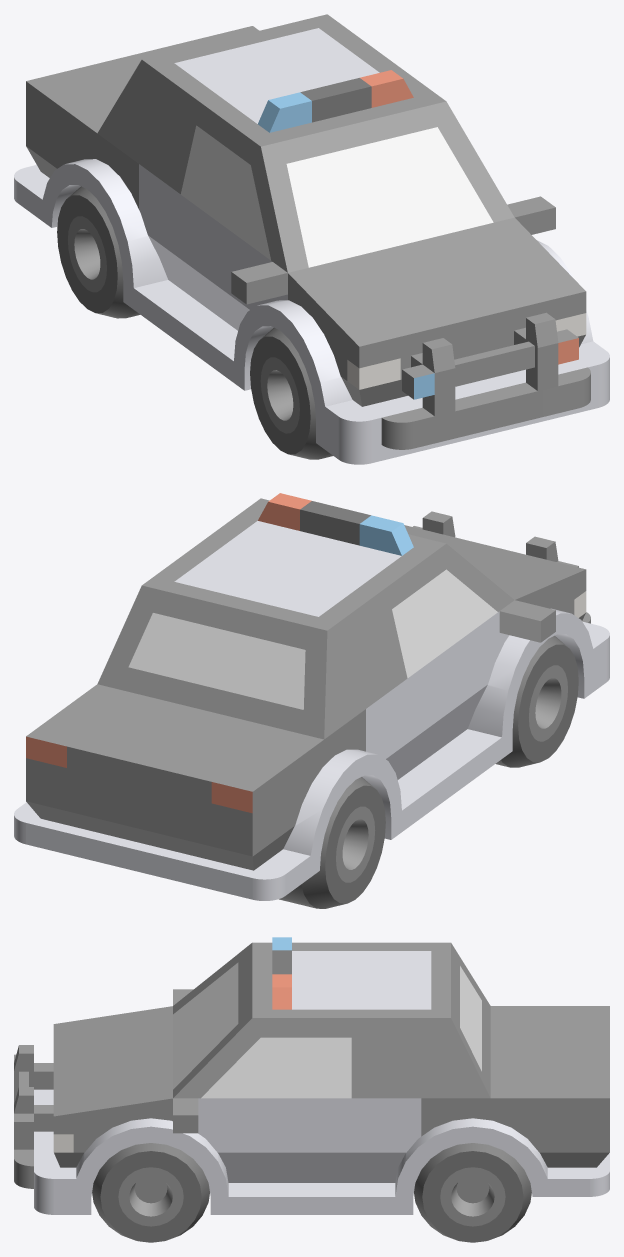
File: policebreak.fbx
3 renders of one model, top to bottom at view 1: azimuth 30°, elevation 25°; view 2: azimuth 150°, elevation 25°; view 3: azimuth 270°, elevation 25°, orthographic. The views are drawn at different scales.
Visible parts, largest first — view 1: body, body.004, grill, wheel_backRight, wheel_frontRight, body.002, body.003, body.001; view 2: body, body.004, wheel_backRight, wheel_frontRight, body.002, body.003, grill, body.001; view 3: body, body.004, wheel_backLeft, wheel_frontLeft, grill, body.001, body.002.
Part boxes in pixels (x1,y1,x2,y2): body: [26, 14, 590, 406]; body.004: [14, 159, 609, 464]; grill: [381, 312, 590, 449]; wheel_backRight: [57, 186, 140, 318]; wheel_frontRight: [250, 327, 332, 459]; body.002: [300, 78, 371, 122]; body.003: [258, 92, 311, 132]; body.001: [360, 70, 413, 107]; body: [26, 498, 586, 870]; body.004: [14, 608, 609, 900]; wheel_backRight: [279, 777, 385, 908]; wheel_frontRight: [495, 635, 578, 767]; body.002: [300, 501, 370, 545]; body.003: [359, 515, 413, 555]; grill: [413, 511, 590, 623]; body.001: [258, 493, 311, 530]; body: [53, 942, 609, 1182]; body.004: [34, 1089, 609, 1214]; wheel_backLeft: [414, 1143, 531, 1242]; wheel_frontLeft: [92, 1143, 209, 1242]; grill: [14, 1045, 53, 1188]; body.001: [272, 974, 291, 1009]; body.002: [272, 950, 291, 974].
Bounding box in the file's own units: 150 × 130 × 300.
